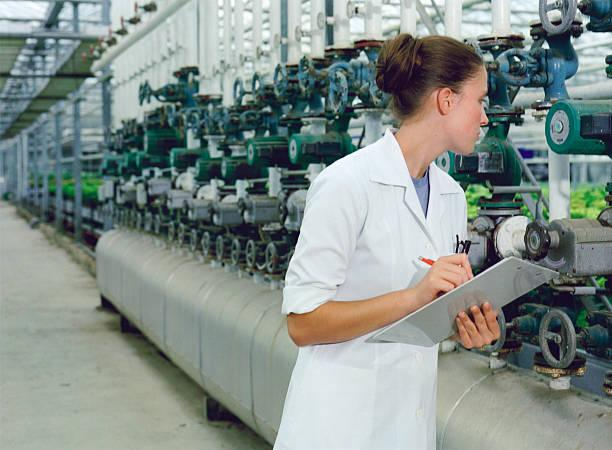lab_coat: (277, 158, 458, 446)
